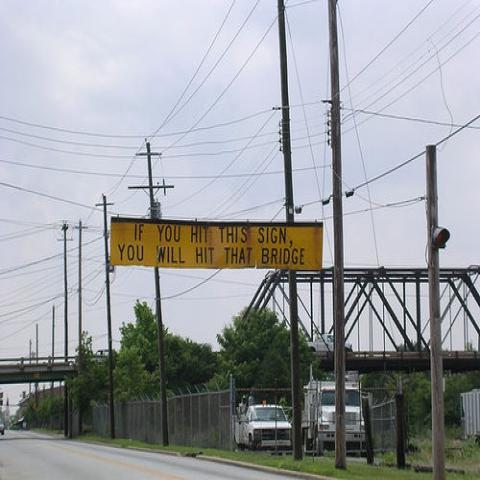car: (307, 332, 353, 352), (0, 418, 5, 436)
truck: (300, 358, 363, 454), (234, 403, 293, 450)
